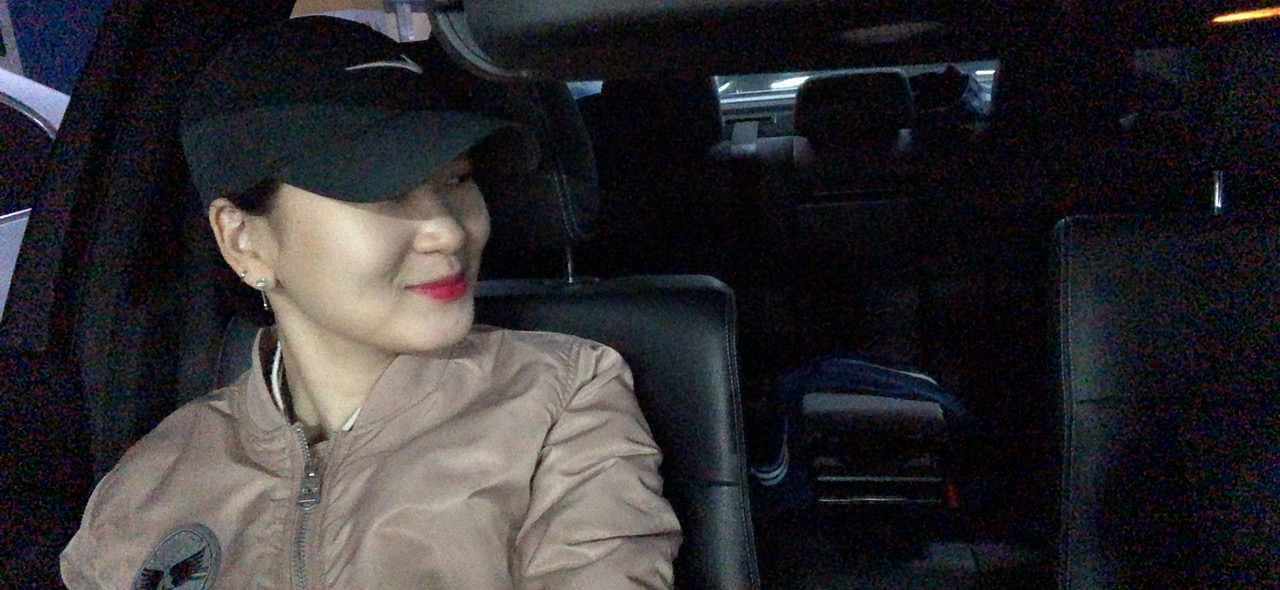right: (41, 8, 708, 590)
